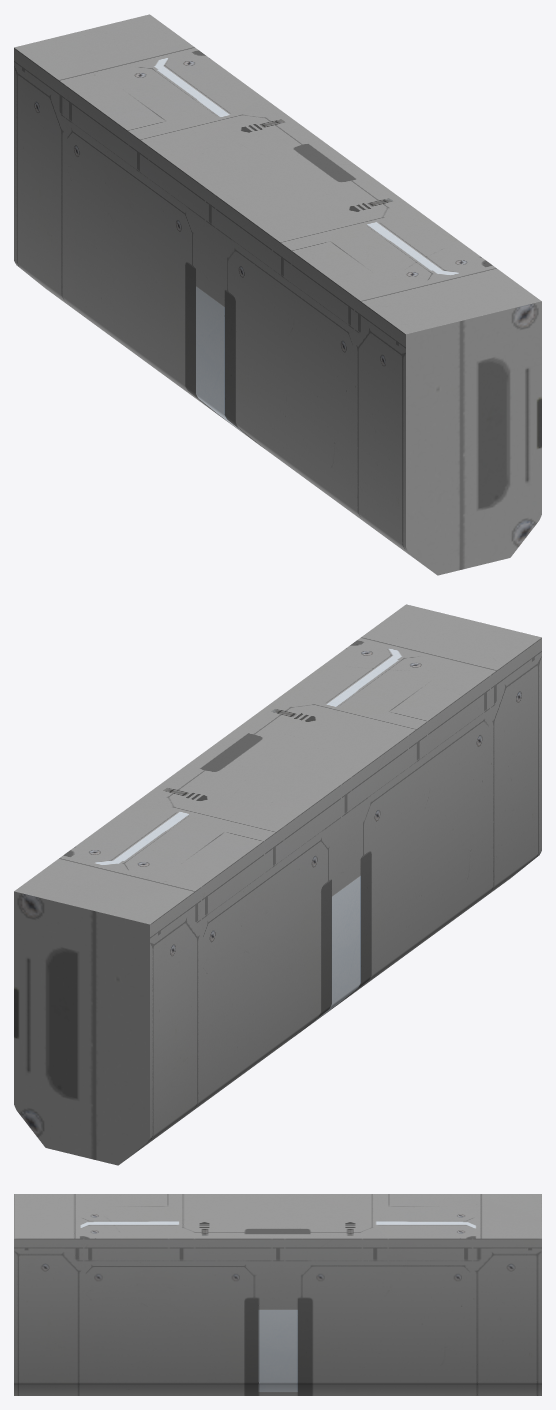
File: SM_Wall_Small1.fbx
3 renders of one model, top to bottom at view 1: azimuth 30°, elevation 25°; view 2: azimuth 150°, elevation 25°; view 3: azimuth 270°, elevation 25°, orthographic. The views are drawn at different scales.
Parts seen in each view (by area): view 1: SM_Wall_Small1_LOD0; view 2: SM_Wall_Small1_LOD0; view 3: SM_Wall_Small1_LOD0.
Part boxes in pixels (x1,y1,x2,y2): SM_Wall_Small1_LOD0: [14, 14, 541, 575]; SM_Wall_Small1_LOD0: [14, 604, 541, 1165]; SM_Wall_Small1_LOD0: [14, 1194, 541, 1395].
Size of the model in its own units: 80 by 400 by 140.
Materials: 1 (1 with a texture image).
